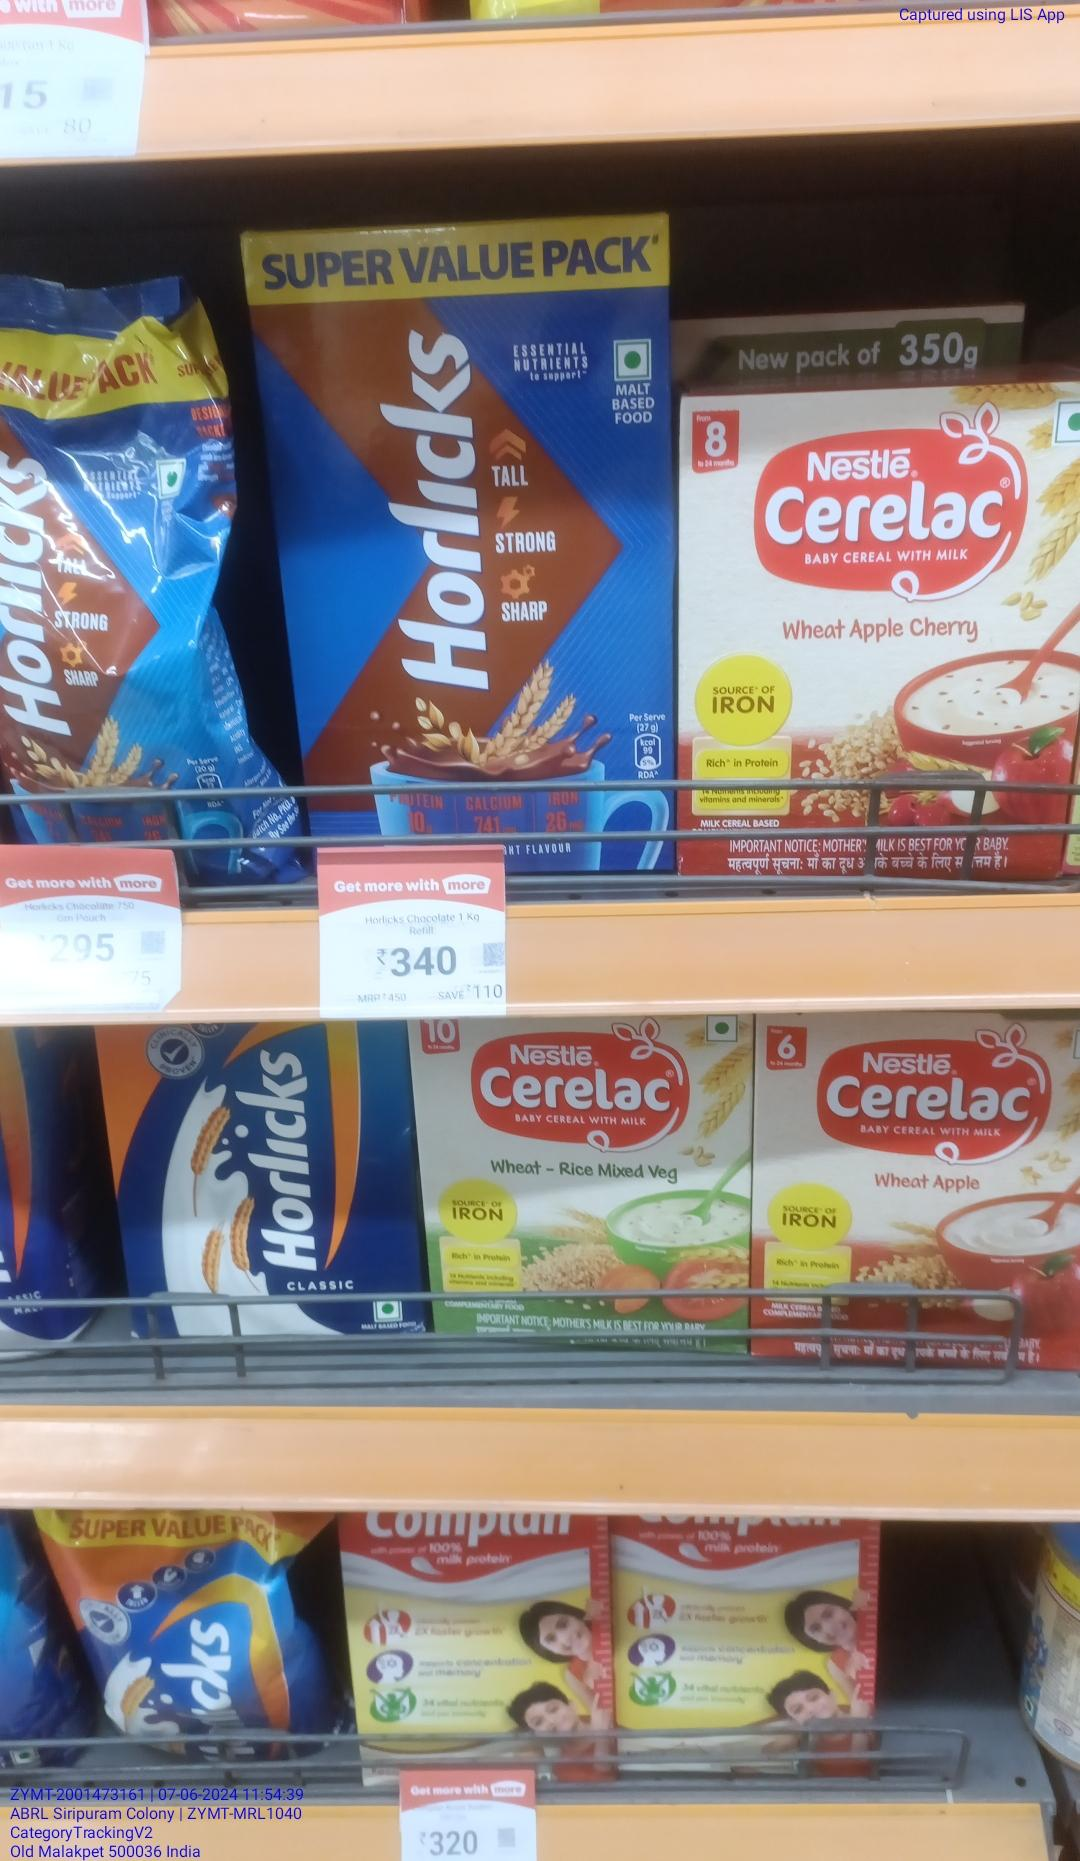HORLICK_CLASSIC_MALT_500_G_PACK: (94, 1032, 414, 1338)
HORLICK_CLASSIC_MALT_750_G_POUCH: (57, 1505, 301, 1766)
